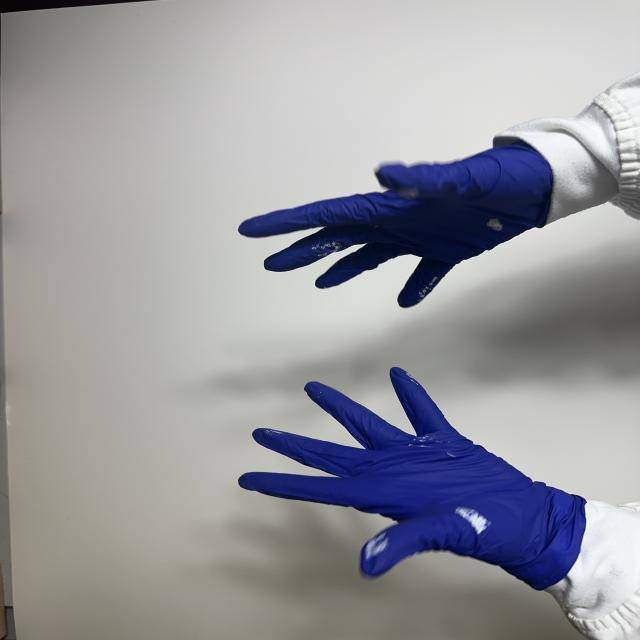gloves_contaminated: (239, 368, 586, 590), (239, 142, 553, 308)
